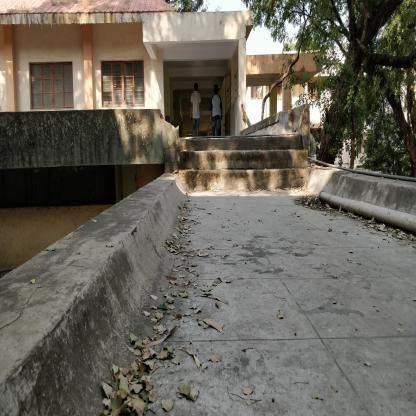stairs: (185, 135, 304, 195)
